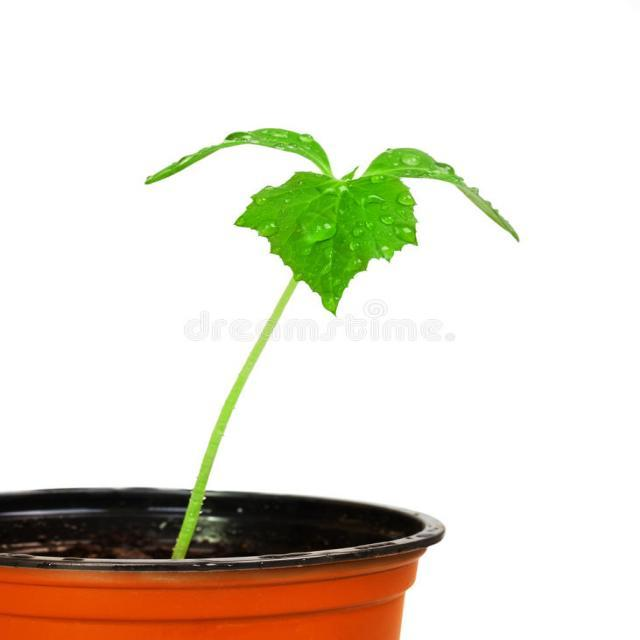tomato: (146, 128, 520, 560)
